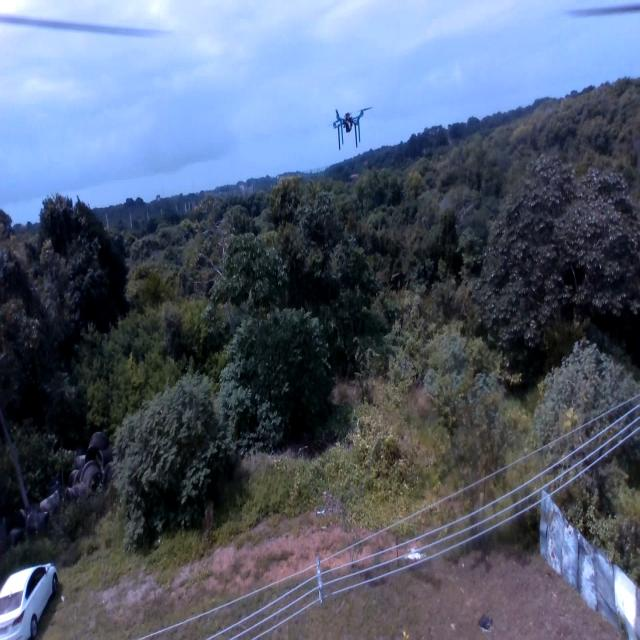-uav-: (325, 95, 372, 163)
